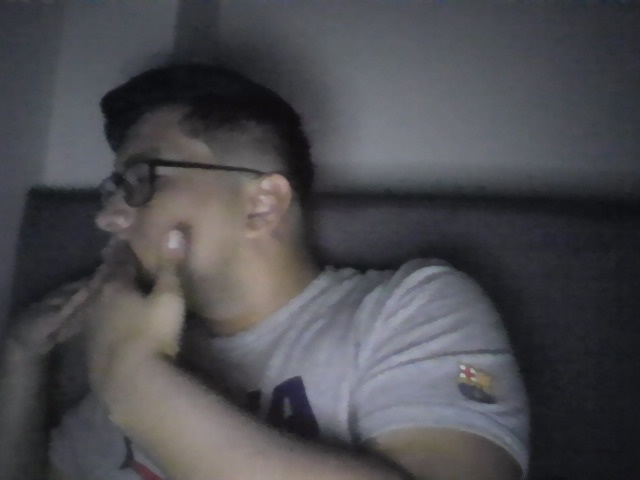Thanks: (9, 224, 205, 420)
